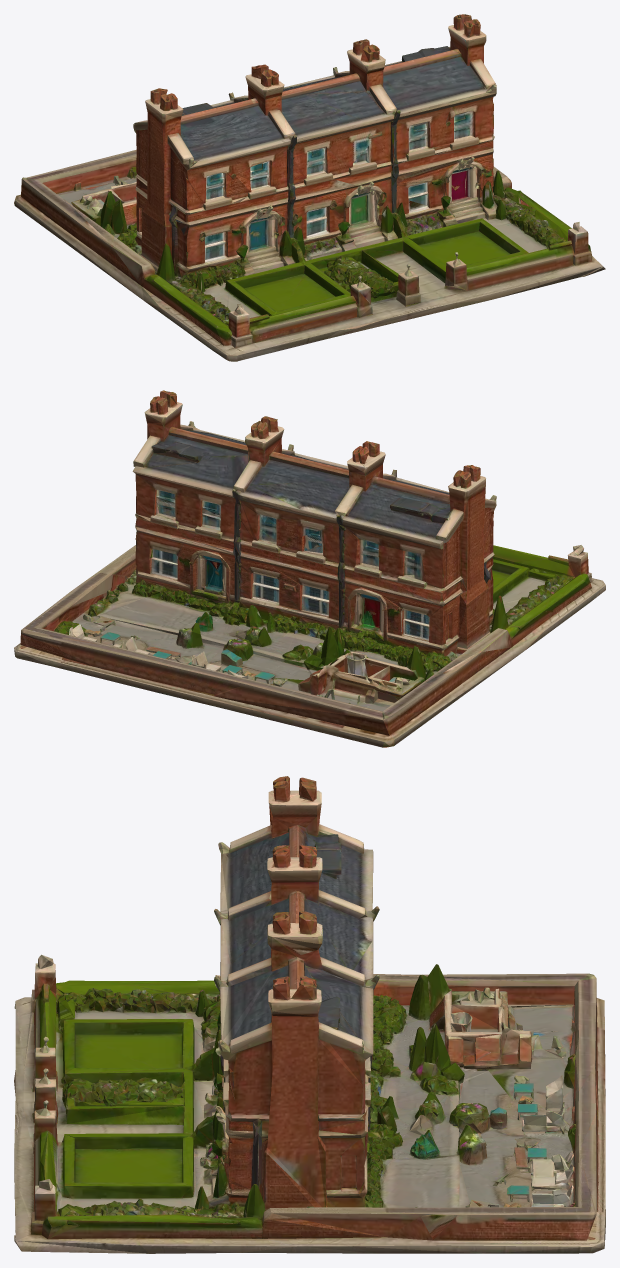
File: town_townhouse_gardens_2.glb
The picture shows the model from 3 angles, top to bottom: view 1: azimuth 30°, elevation 25°; view 2: azimuth 150°, elevation 25°; view 3: azimuth 270°, elevation 25°; orthographic projection. The views are drawn at different scales.
Parts seen in each view (by area): view 1: normalize; view 2: normalize; view 3: normalize.
Boxes of the visible parts, bbox=[...] form: normalize: bbox=[14, 14, 605, 361]; normalize: bbox=[14, 390, 605, 747]; normalize: bbox=[14, 776, 605, 1253].
Bounding box in the file's own units: 0.9991 × 0.4672 × 1.
1 material, 1 textured.
